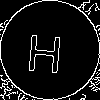H: (25, 25, 65, 74)
